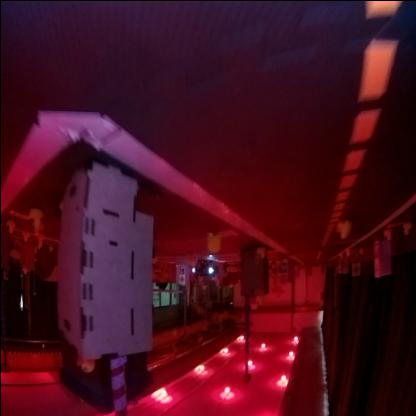Duckie: (335, 220, 349, 239), (76, 356, 92, 372), (206, 233, 218, 253), (28, 209, 40, 228), (402, 223, 410, 235), (383, 230, 389, 242)
Duckiebot: (191, 260, 217, 280)
